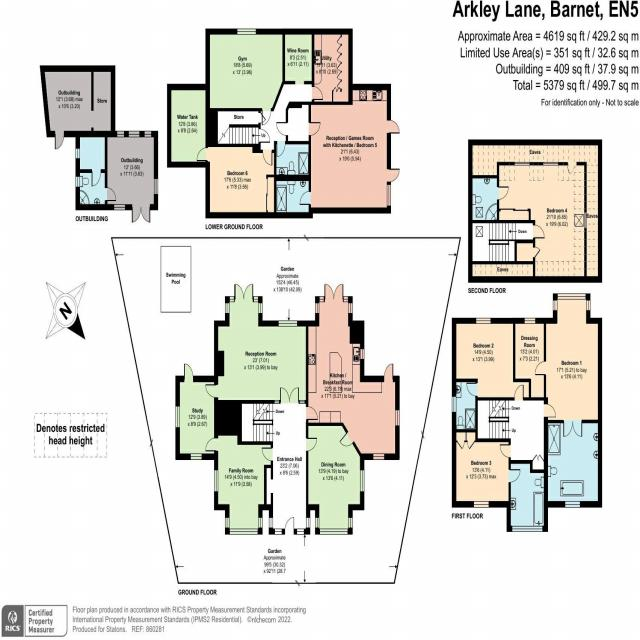DOOR: (339, 431, 354, 447), (262, 149, 273, 166), (308, 122, 321, 136), (387, 168, 400, 182), (466, 382, 478, 397), (261, 447, 273, 462), (306, 406, 318, 421), (276, 121, 288, 136), (514, 384, 524, 401), (544, 404, 556, 418), (499, 444, 511, 458), (508, 469, 520, 483), (312, 86, 323, 101), (285, 517, 294, 535), (276, 141, 286, 157), (306, 438, 317, 452)
DOUBLE DOOR: (324, 282, 345, 302), (562, 420, 584, 439), (234, 282, 254, 302), (280, 385, 300, 404)
ROOM: (306, 283, 400, 461), (299, 84, 400, 219), (205, 283, 308, 404), (535, 293, 602, 437), (205, 433, 273, 535), (305, 423, 364, 535), (452, 318, 531, 401), (197, 144, 277, 219), (452, 429, 520, 508)
WINDOW: (557, 293, 586, 300), (320, 528, 348, 535), (230, 528, 258, 535), (512, 526, 543, 532), (278, 320, 297, 327), (175, 405, 180, 429), (386, 184, 391, 207), (565, 501, 581, 508), (473, 501, 489, 508), (360, 470, 365, 492), (190, 453, 203, 461), (214, 469, 218, 492), (476, 318, 491, 324), (373, 453, 385, 460), (452, 396, 457, 412), (395, 410, 400, 426), (524, 318, 536, 324), (274, 528, 282, 535), (586, 300, 591, 311), (348, 517, 353, 528), (225, 517, 230, 528), (258, 517, 263, 528), (348, 303, 353, 314), (225, 303, 230, 314), (258, 303, 263, 314), (297, 528, 304, 535), (553, 300, 557, 311), (315, 517, 319, 528), (306, 517, 310, 528), (269, 517, 273, 528), (315, 303, 319, 314), (360, 349, 364, 359), (319, 296, 324, 302), (343, 296, 348, 302), (230, 296, 234, 302), (254, 296, 258, 302)
